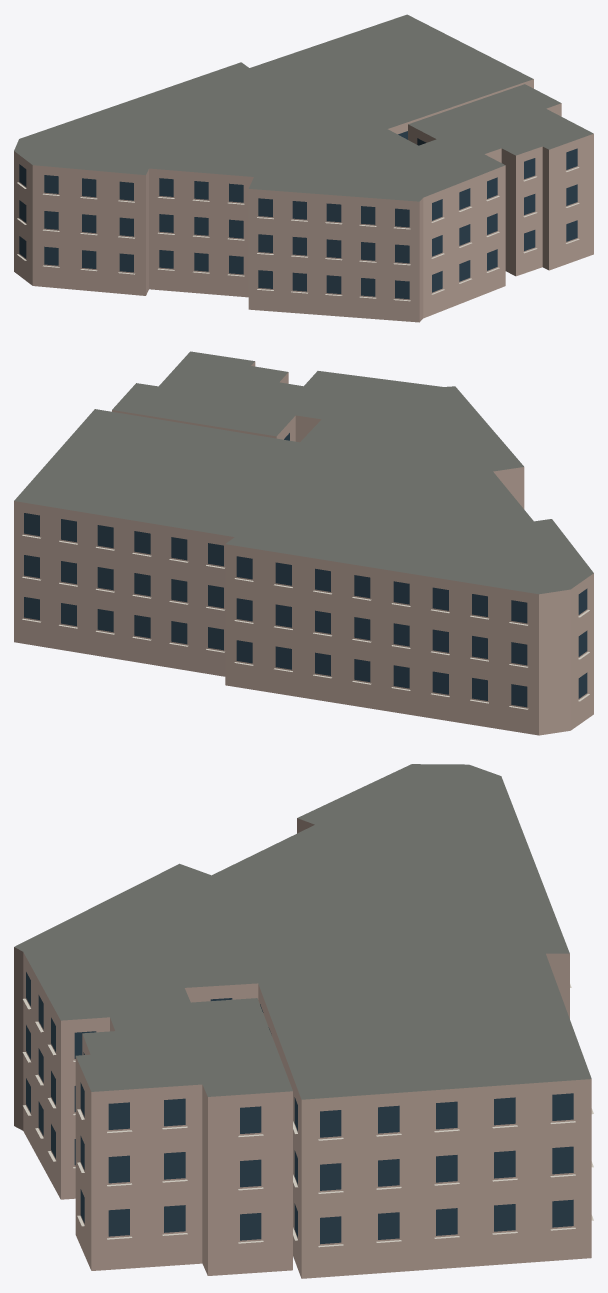
3 views of the same model, one above another, from view 1: azimuth 30°, elevation 25°; view 2: azimuth 150°, elevation 25°; view 3: azimuth 270°, elevation 25° (orthographic). The views are drawn at different scales.
Visible parts, largest first — view 1: Footprint 0, Inferred window bays, Window sills; view 2: Footprint 0, Inferred window bays, Window sills; view 3: Footprint 0, Inferred window bays, Window sills.
Part boxes in pixels (box(x1,y1,x2,y2)): Footprint 0: box(14, 14, 593, 322); Inferred window bays: box(19, 131, 577, 299); Window sills: box(17, 167, 579, 301); Footprint 0: box(14, 351, 593, 735); Inferred window bays: box(24, 433, 587, 707); Window sills: box(22, 534, 589, 709); Footprint 0: box(14, 764, 591, 1278); Inferred window bays: box(26, 972, 573, 1244); Window sills: box(22, 984, 593, 1247).
Bounding box in the file's own units: 45.42 × 11.23 × 32.95.
